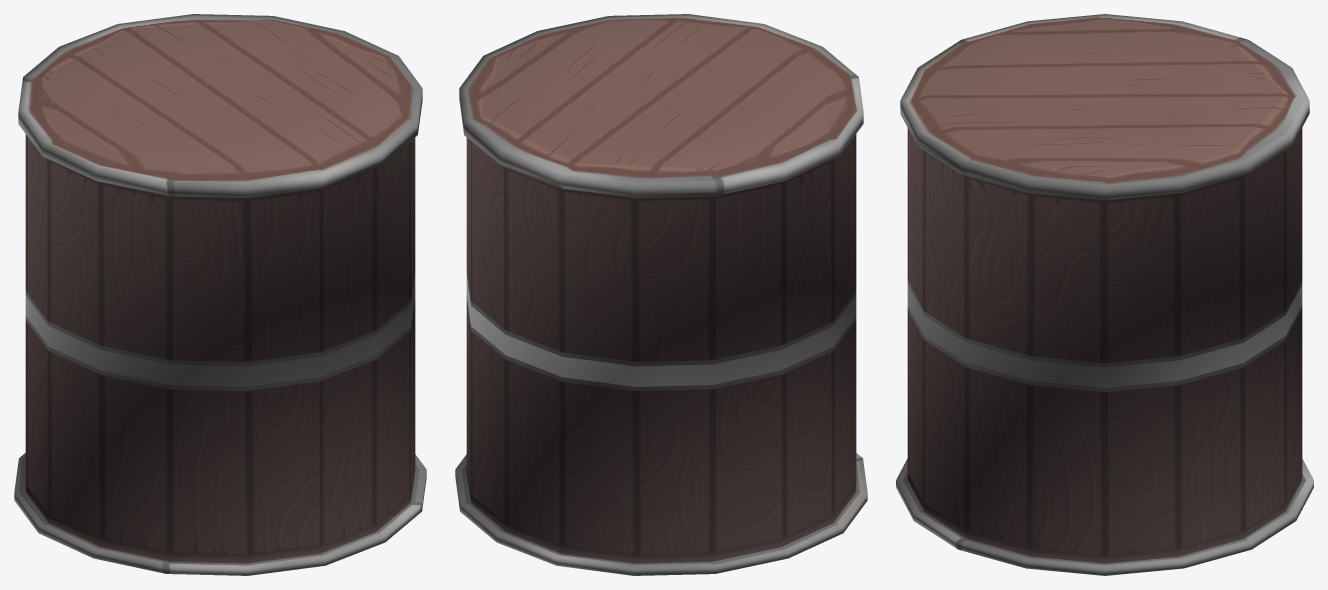
File: barrel.fbx
3 views of the same model, side by side, from view 1: azimuth 30°, elevation 25°; view 2: azimuth 150°, elevation 25°; view 3: azimuth 270°, elevation 25° (orthographic).
Parts seen in each view (by area): view 1: Barrel; view 2: Barrel; view 3: Barrel.
Part boxes in pixels (box(x1,y1,x2,y2)): Barrel: box(14, 14, 426, 575); Barrel: box(455, 14, 867, 575); Barrel: box(896, 14, 1313, 575).
Size of the model in its own units: 27.02 by 27.94 by 27.02.
1 material, 1 textured.
